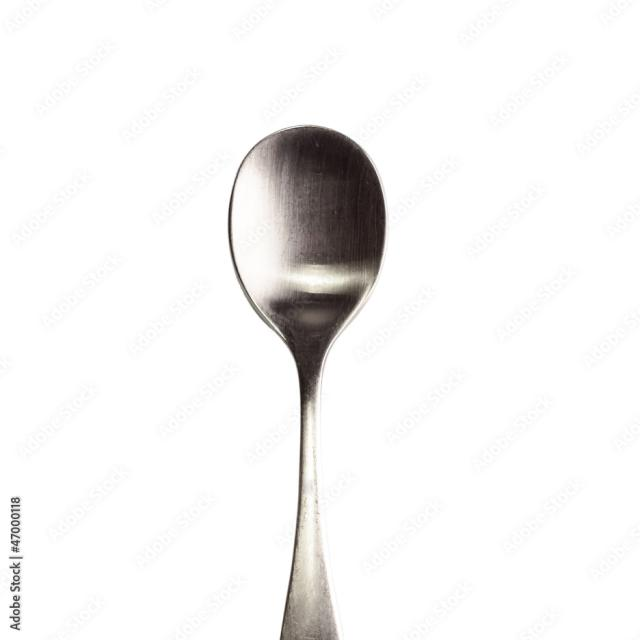spoon: (211, 94, 395, 640)
